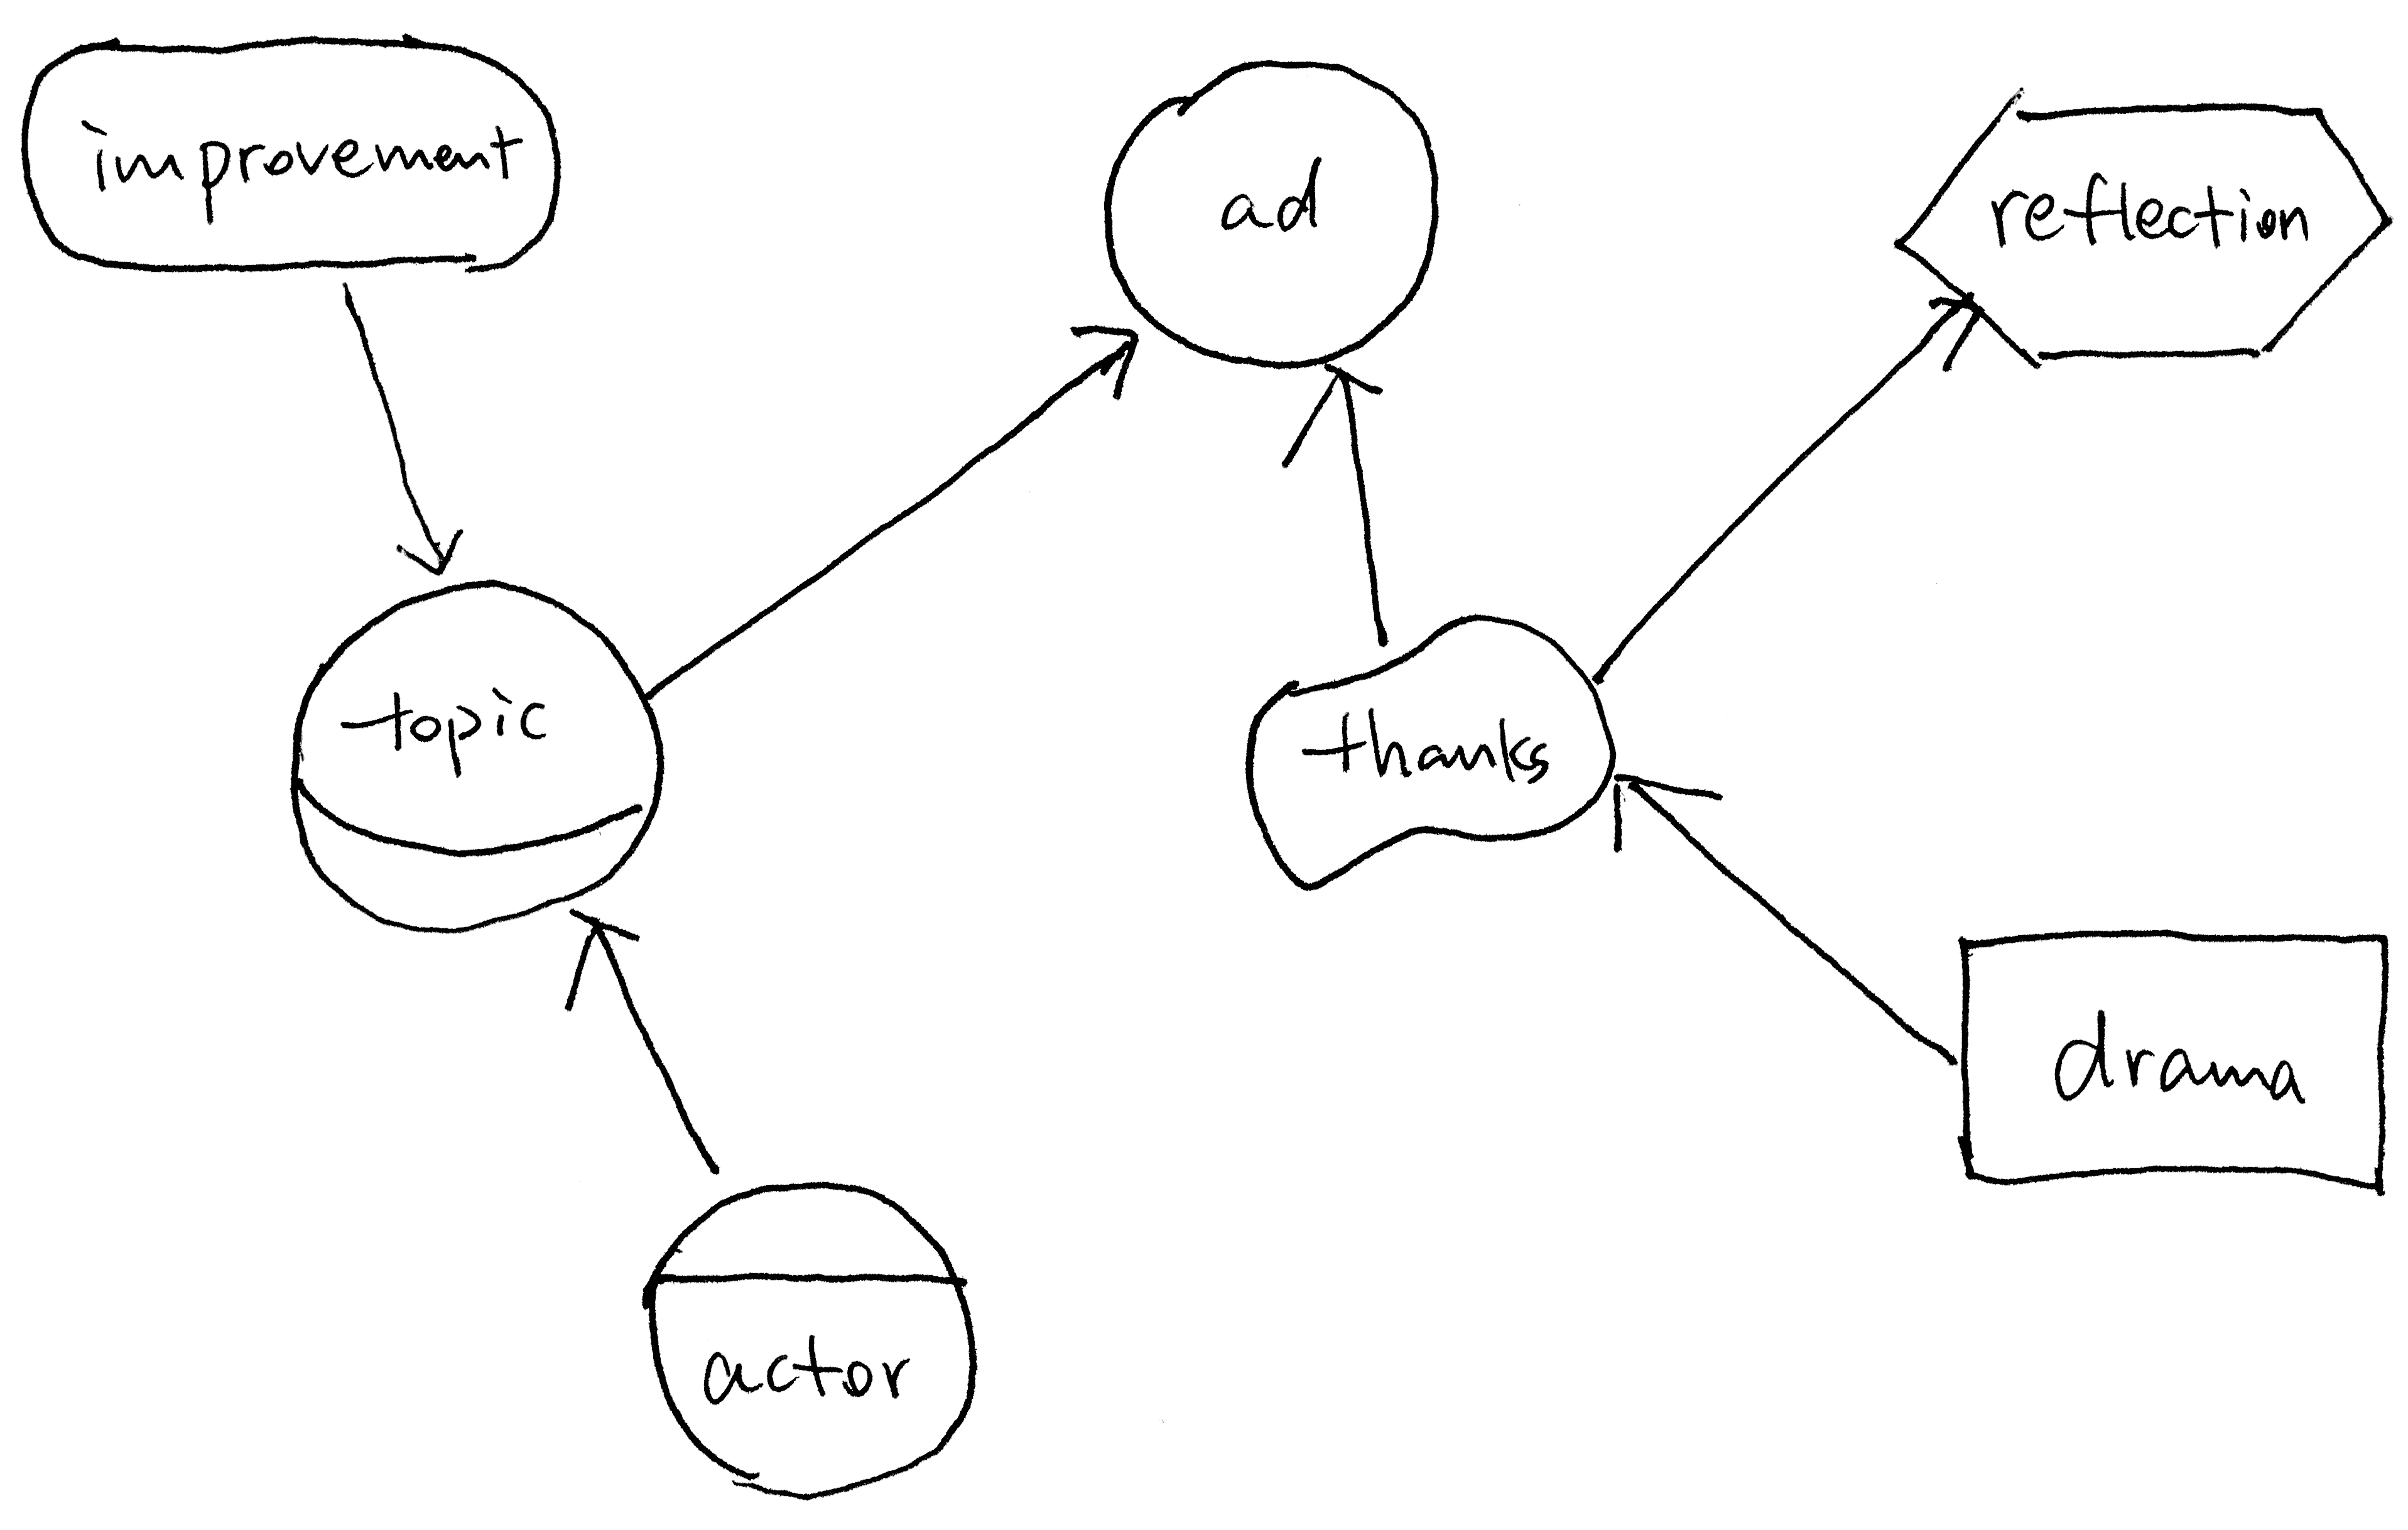actor: (1090, 46, 1462, 382)
agent: (614, 1167, 995, 1512)
arrow: (1585, 760, 1736, 876), (1271, 347, 1390, 488), (537, 886, 663, 1018), (1910, 256, 1997, 395), (1058, 302, 1164, 407), (363, 512, 476, 581)
goal: (11, 18, 577, 291)
quality: (1211, 588, 1639, 898)
resource: (1929, 893, 2408, 1216)
role: (269, 561, 681, 954)
task: (1876, 72, 2399, 386)
